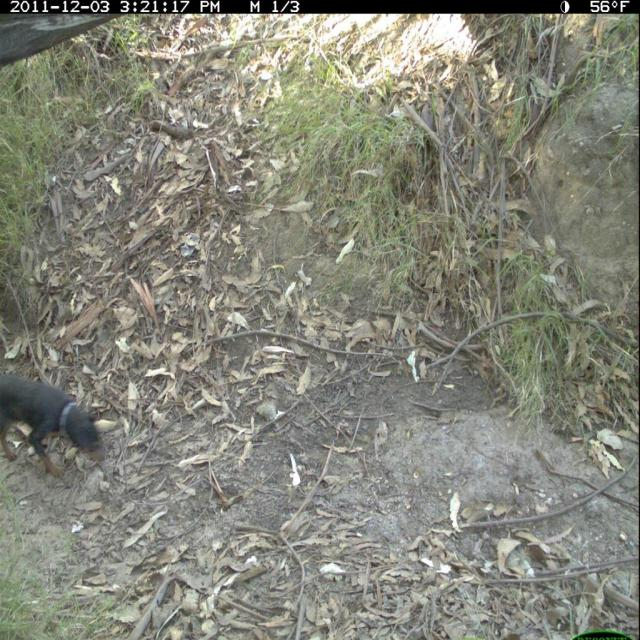dog: (3, 358, 145, 495)
